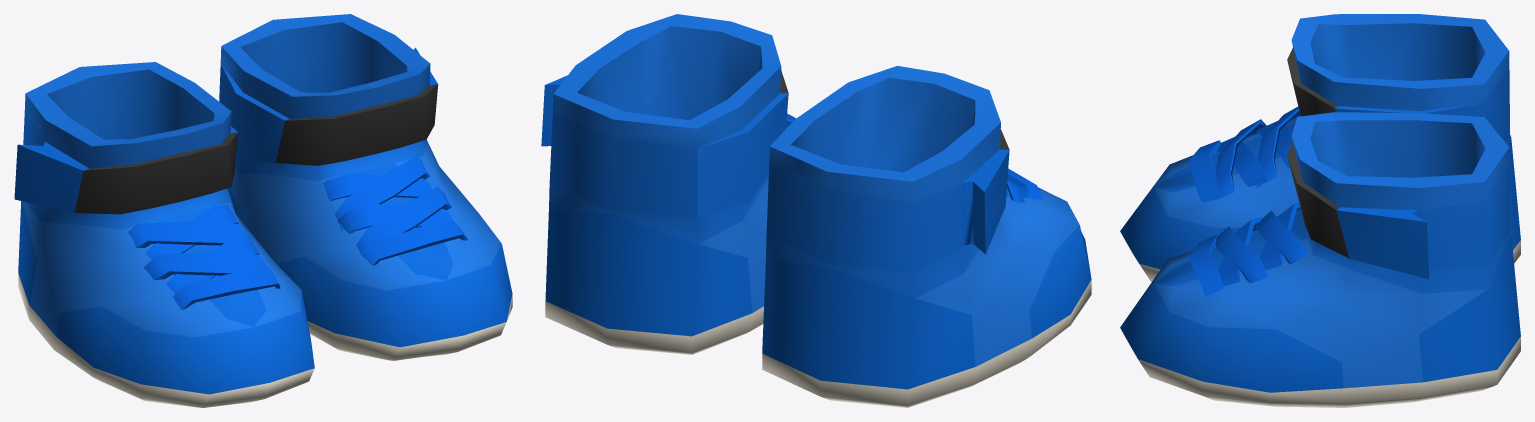
The model's file is Shoes_32.fbx.
The picture shows the model from 3 angles, left to right: view 1: azimuth 30°, elevation 25°; view 2: azimuth 150°, elevation 25°; view 3: azimuth 270°, elevation 25°; orthographic projection. The views are drawn at different scales.
Parts seen in each view (by area): view 1: Shoes_32; view 2: Shoes_32; view 3: Shoes_32.
Boxes of the visible parts, left/top/right/bottom form: Shoes_32: left=14, top=14, right=512, bottom=407; Shoes_32: left=541, top=14, right=1091, bottom=407; Shoes_32: left=1120, top=14, right=1520, bottom=407.
Bounding box in the file's own units: 42.3 × 22.05 × 35.65.
